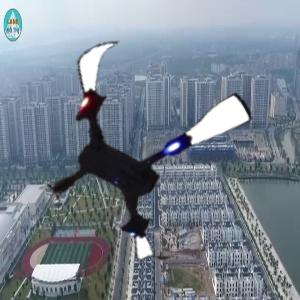drone: (28, 30, 263, 265)
